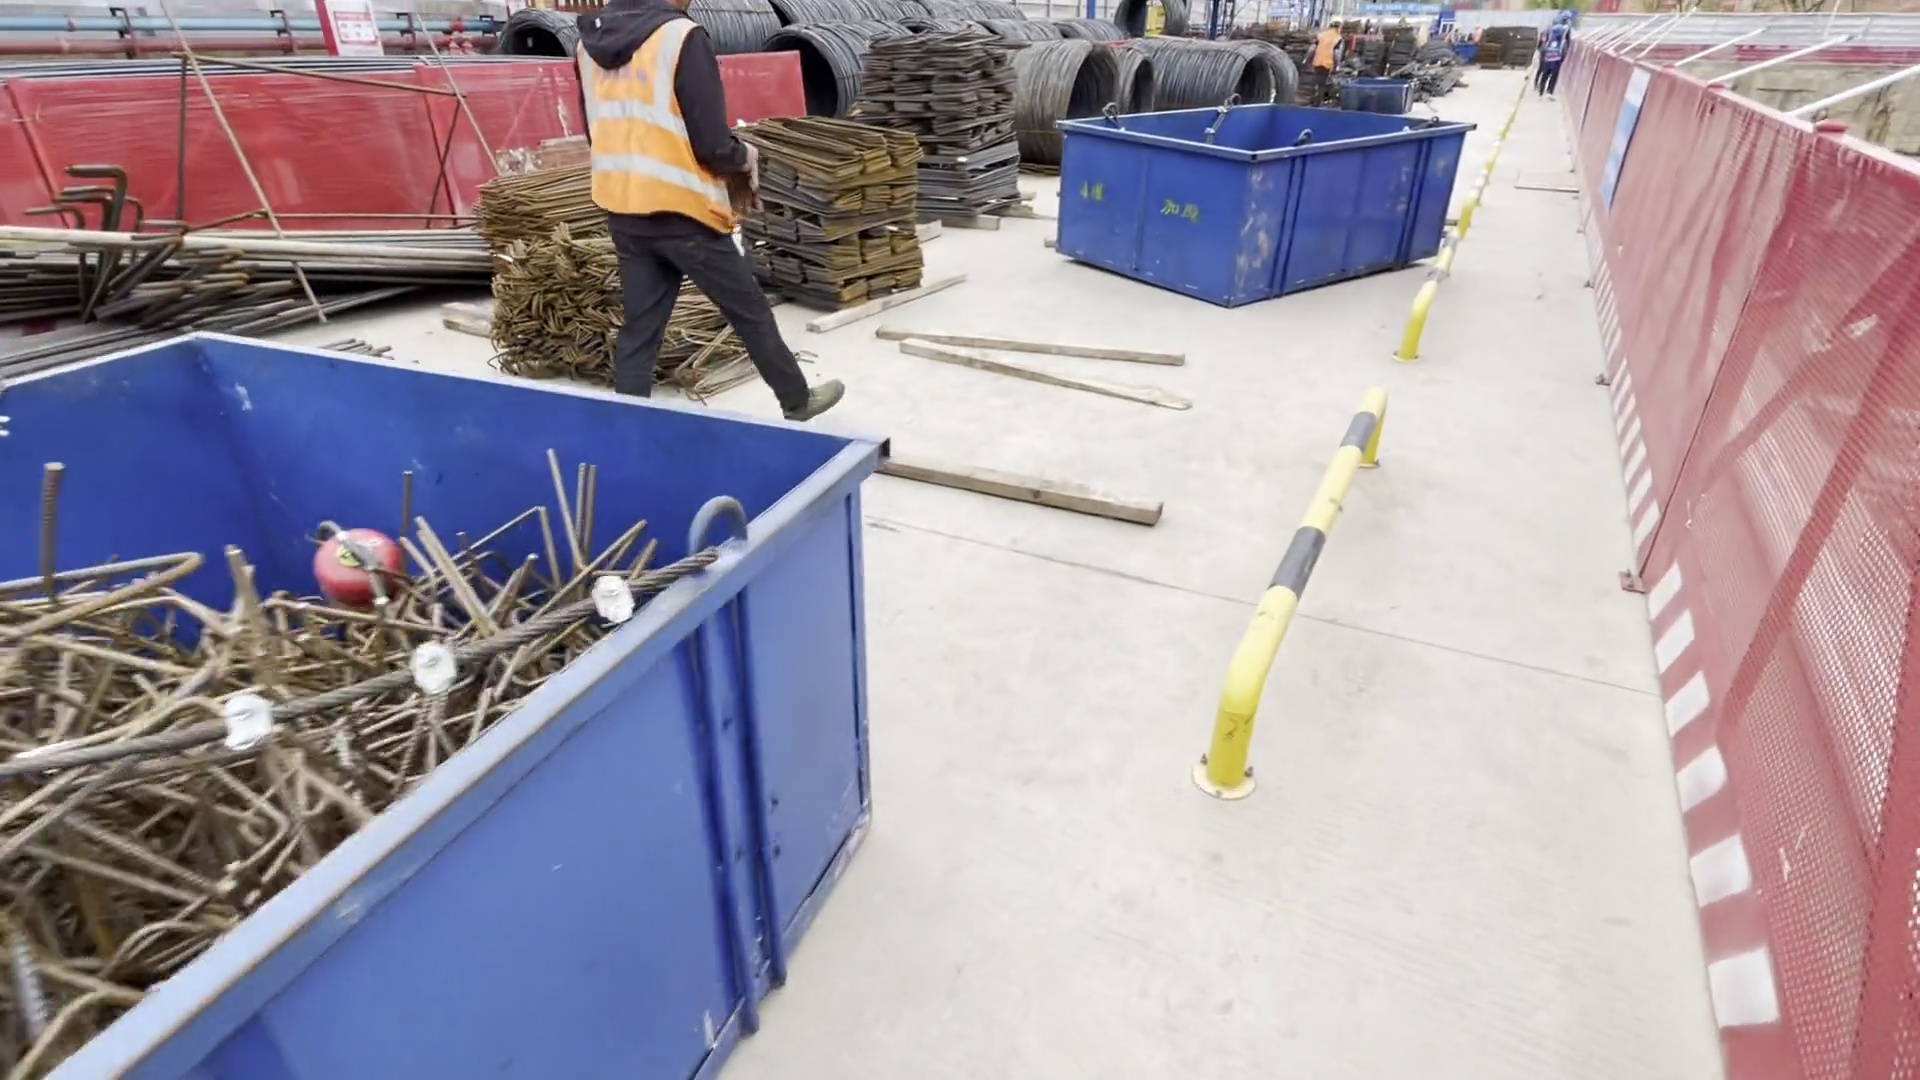fence: (1568, 31, 1920, 1075)
helmet: (1552, 24, 1566, 37)
hopper: (1, 319, 915, 1080), (1020, 103, 1481, 305)
person: (563, 1, 852, 440), (1302, 19, 1340, 100), (1537, 22, 1565, 97)
vest: (581, 14, 750, 242), (1311, 29, 1343, 72), (1542, 42, 1564, 68)
